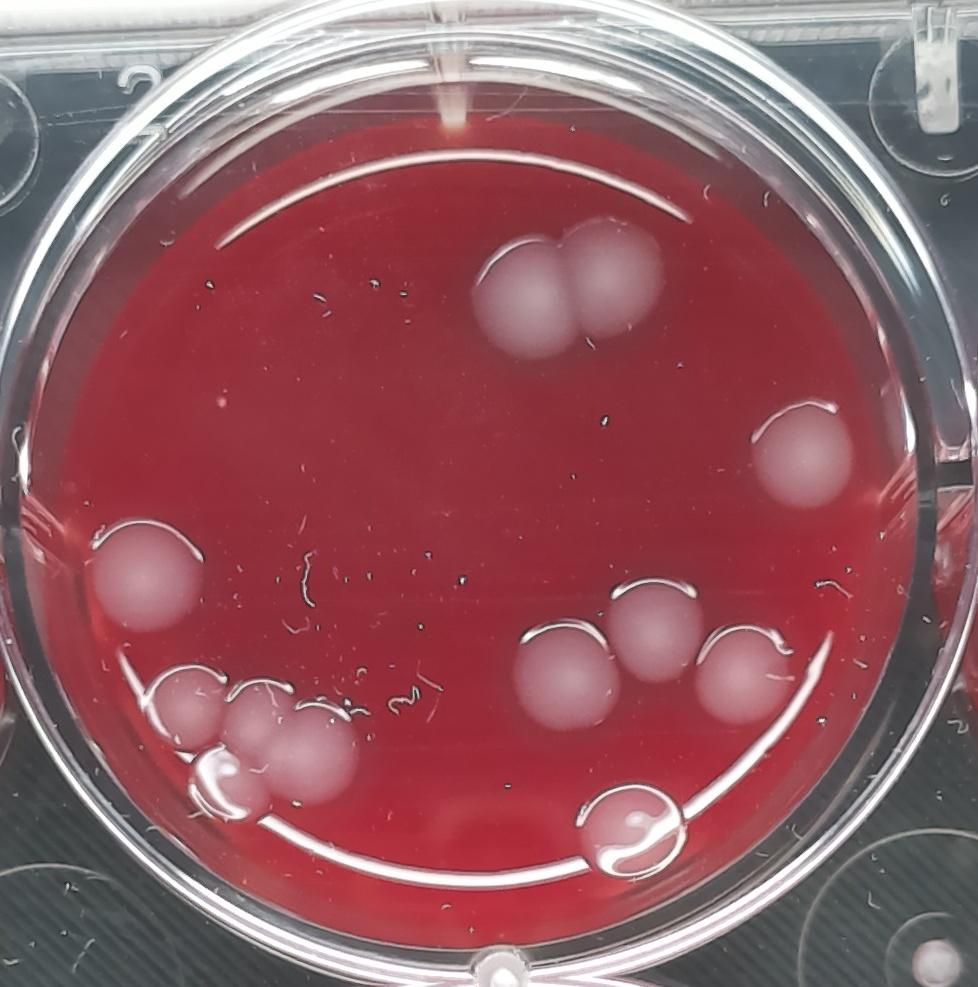pddamselae: (463, 207, 674, 364), (75, 499, 219, 641), (226, 670, 365, 808), (499, 609, 627, 740), (739, 387, 864, 519), (566, 770, 689, 883), (686, 614, 803, 730), (604, 580, 706, 687), (138, 660, 231, 753), (188, 744, 273, 824)
